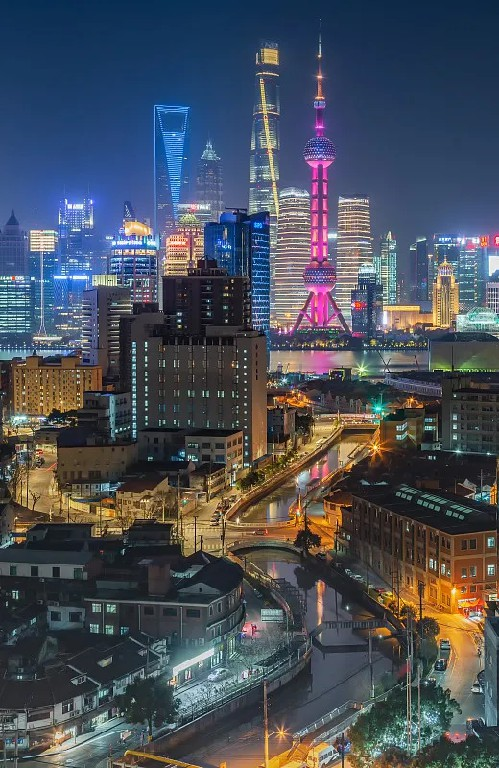Oriental: (294, 19, 345, 329)
